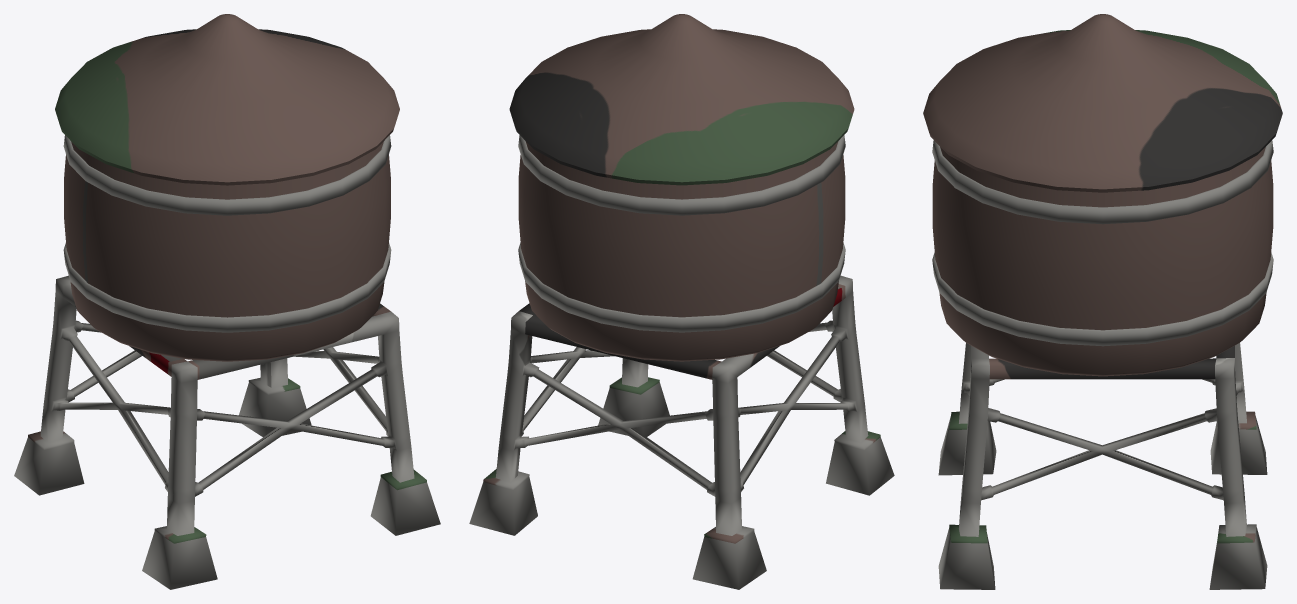
File: SM_LargeWater.fbx
3 renders of one model, left to right at view 1: azimuth 30°, elevation 25°; view 2: azimuth 150°, elevation 25°; view 3: azimuth 270°, elevation 25°, orthographic. The views are drawn at different scales.
Parts seen in each view (by area): view 1: LargeWater; view 2: LargeWater; view 3: LargeWater.
Boxes of the visible parts, x1,y1,x2,y2 form: LargeWater: (14, 14, 440, 589); LargeWater: (469, 14, 894, 589); LargeWater: (923, 14, 1282, 589).
Bounding box in the file's own units: 376 × 583 × 376.
